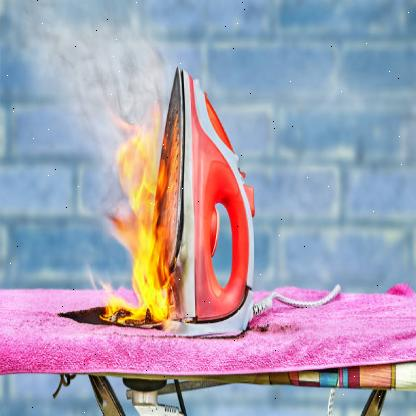fire: (99, 136, 183, 326)
smoke: (0, 0, 176, 158)
